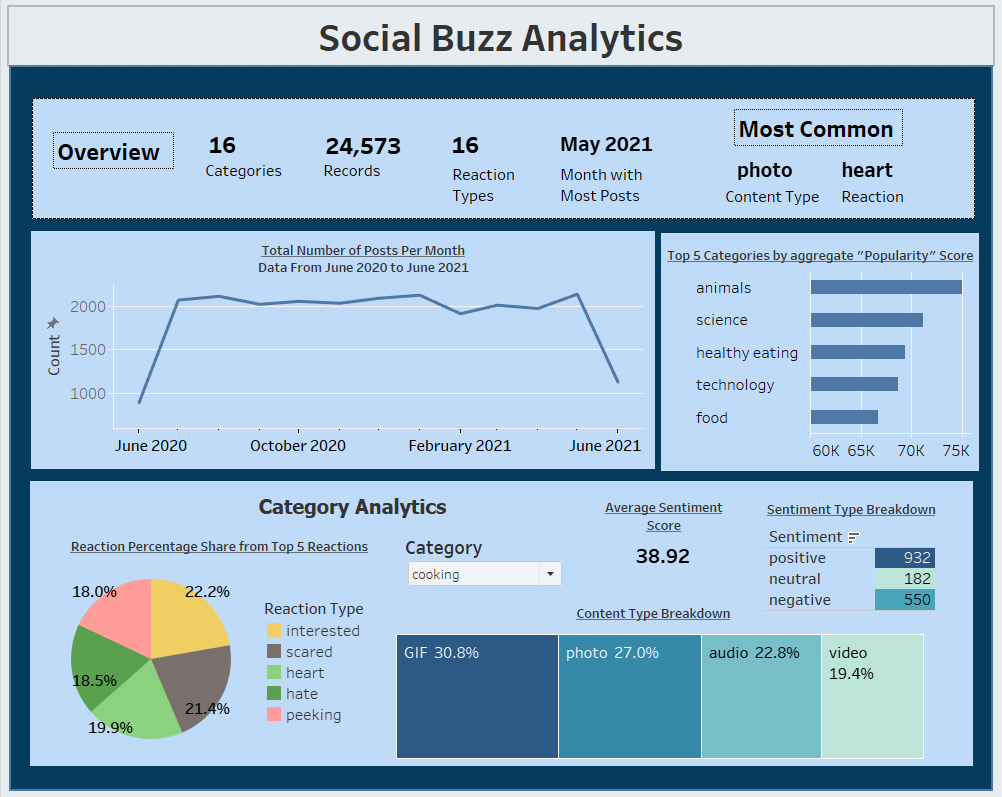

This screenshot's page, from the dashboard's own definition file:
{"tool":"tableau","page":{"name":"Dashboard 1","canvas":[1000,800],"ordinal":0},"visuals":[{"type":"title","box":[8,8,984,58]},{"type":"text","box":[733,110,169,37]},{"type":"worksheet","title":"Sheet 6 (2)","mark":"Automatic","box":[320,122,107,39]},{"type":"worksheet","title":"Sheet 6","mark":"Automatic","box":[203,127,91,36]},{"type":"worksheet","title":"Sheet 6 (3)","mark":"Automatic","box":[446,127,90,39]},{"type":"text","box":[52,133,121,37]},{"type":"worksheet","title":"Sheet 6 (4)","mark":"Automatic","box":[555,136,134,34]},{"type":"text","box":[201,153,137,37]},{"type":"text","box":[319,153,137,37]},{"type":"worksheet","title":"Sheet 6 (5)","mark":"Automatic","box":[836,154,88,39]},{"type":"worksheet","title":"Sheet 6 (6)","mark":"Automatic","box":[732,158,100,33]},{"type":"text","box":[448,159,100,54]},{"type":"text","box":[556,159,120,54]},{"type":"text","box":[721,170,137,54]},{"type":"text","box":[837,170,146,54]},{"type":"text","box":[641,237,357,37]},{"type":"text","box":[184,241,357,37]},{"type":"worksheet","title":"Sheet 1","mark":"Bar","rows":["Category"],"cols":["Score"],"box":[689,272,282,192]},{"type":"worksheet","title":"Sheet 3","mark":"Automatic","rows":["Content ID"],"cols":["Datetime"],"box":[35,285,607,174]},{"type":"text","box":[592,485,142,64]},{"type":"text","box":[173,489,357,37]},{"type":"worksheet","title":"Sheet 6 (7)","mark":"Automatic","box":[625,516,68,79]},{"type":"text","box":[40,528,357,37]},{"type":"worksheet","title":"Sheet 5","mark":"Square","rows":["Sentiment"],"box":[762,528,200,95]},{"type":"filter","title":"Sheet 4","param":"[federated.1q6om4u1n58vfq1951v4w0dufl3g].[none:Category:nk]","box":[404,535,160,53]},{"type":"text","box":[474,595,357,37]},{"type":"legend","title":"Sheet 4","param":"[federated.1q6om4u1n58vfq1951v4w0dufl3g].[none:Reaction Type:nk]","box":[263,599,140,127]},{"type":"worksheet","title":"Sheet 11","mark":"Automatic","box":[391,631,578,133]}]}

Visuals, with their boxes in screenshot pixels (x1, y1, x2, y2), scaled from the page's 1000x800 canvas onto the 1002x797 screenshot:
title: x1=8 y1=8 x2=994 y2=66
text: x1=734 y1=110 x2=904 y2=146
"Sheet 6 (2)" worksheet: x1=321 y1=122 x2=428 y2=160
"Sheet 6" worksheet: x1=203 y1=127 x2=295 y2=162
"Sheet 6 (3)" worksheet: x1=447 y1=127 x2=537 y2=165
text: x1=52 y1=133 x2=173 y2=169
"Sheet 6 (4)" worksheet: x1=556 y1=135 x2=690 y2=169
text: x1=201 y1=152 x2=339 y2=189
text: x1=320 y1=152 x2=457 y2=189
"Sheet 6 (5)" worksheet: x1=838 y1=153 x2=926 y2=192
"Sheet 6 (6)" worksheet: x1=733 y1=157 x2=834 y2=190
text: x1=449 y1=158 x2=549 y2=212
text: x1=557 y1=158 x2=677 y2=212
text: x1=722 y1=169 x2=860 y2=223
text: x1=839 y1=169 x2=985 y2=223
text: x1=642 y1=236 x2=1000 y2=273
text: x1=184 y1=240 x2=542 y2=277
"Sheet 1" worksheet (Bar marks): x1=690 y1=271 x2=973 y2=462
"Sheet 3" worksheet: x1=35 y1=284 x2=643 y2=457
text: x1=593 y1=483 x2=735 y2=547
text: x1=173 y1=487 x2=531 y2=524
"Sheet 6 (7)" worksheet: x1=626 y1=514 x2=694 y2=593
text: x1=40 y1=526 x2=398 y2=563
"Sheet 5" worksheet (Square marks): x1=764 y1=526 x2=964 y2=621
"Sheet 4" filter: x1=405 y1=533 x2=565 y2=586
text: x1=475 y1=593 x2=833 y2=630
"Sheet 4" legend: x1=264 y1=597 x2=404 y2=723
"Sheet 11" worksheet: x1=392 y1=629 x2=971 y2=761
